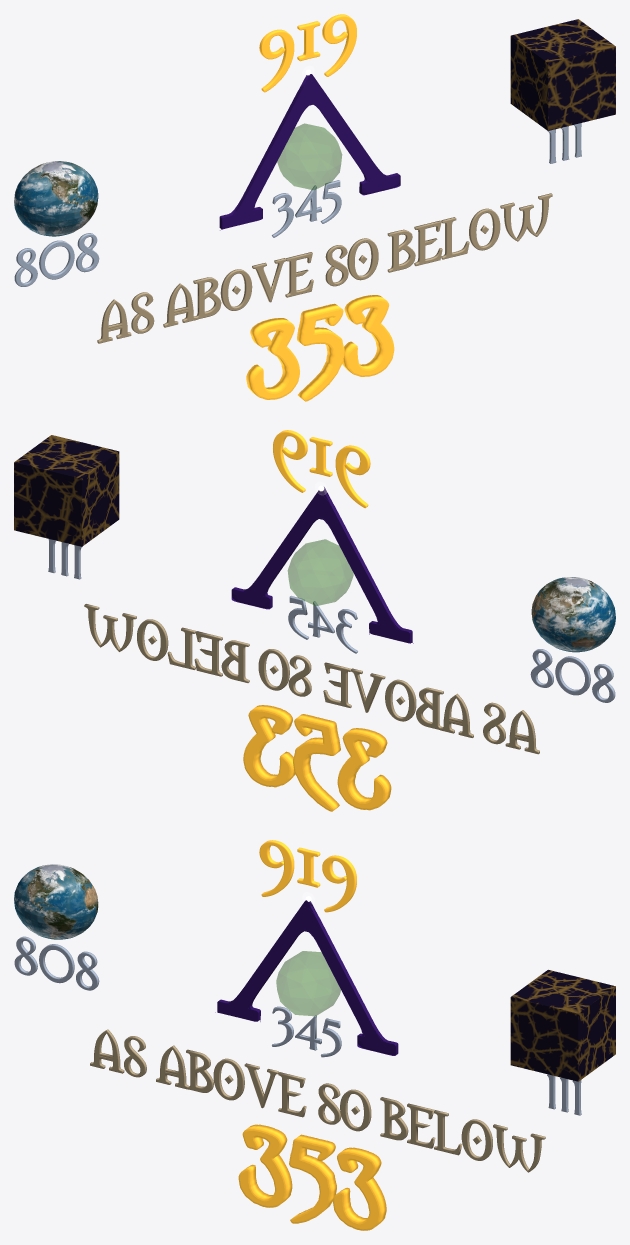
3 renders of one model, top to bottom at view 1: azimuth 30°, elevation 25°; view 2: azimuth 150°, elevation 25°; view 3: azimuth 330°, elevation 25°, orthographic.
Visible parts, largest first — view 1: Cube, Text.003, Curve.002, Plane, Sphere, Icosphere, Text.004, Text, Text.002, Text.001; view 2: Cube, Text.003, Curve.002, Plane, Sphere, Icosphere, Text.004, Text, Text.002, Text.001; view 3: Cube, Text.003, Curve.002, Plane, Sphere, Icosphere, Text.004, Text, Text.002, Text.001.
Boxes of the visible parts, <box> form: Cube: <box>510,19,615,130</box>; Text.003: <box>97,193,552,343</box>; Curve.002: <box>246,295,394,401</box>; Plane: <box>219,74,400,230</box>; Sphere: <box>14,161,98,236</box>; Icosphere: <box>277,123,341,189</box>; Text.004: <box>259,14,356,92</box>; Text: <box>14,233,99,286</box>; Text.002: <box>272,180,341,237</box>; Text.001: <box>547,123,581,163</box>; Cube: <box>14,435,119,546</box>; Text.003: <box>84,604,539,754</box>; Curve.002: <box>243,705,391,811</box>; Plane: <box>231,487,413,643</box>; Sphere: <box>531,577,615,652</box>; Icosphere: <box>288,539,353,605</box>; Text.004: <box>273,430,370,508</box>; Text: <box>530,649,615,702</box>; Text.002: <box>288,596,357,653</box>; Text.001: <box>48,539,82,579</box>; Cube: <box>510,969,615,1081</box>; Text.003: <box>90,1029,545,1172</box>; Curve.002: <box>238,1124,386,1230</box>; Plane: <box>215,900,398,1055</box>; Sphere: <box>14,864,98,939</box>; Icosphere: <box>276,951,340,1015</box>; Text.004: <box>259,840,356,912</box>; Text: <box>14,936,99,990</box>; Text.002: <box>272,1006,341,1057</box>; Text.001: <box>547,1074,581,1115</box>.
Bounding box in the file's own units: 17.9 × 10.91 × 2.
Materials: 9 (2 with a texture image).
